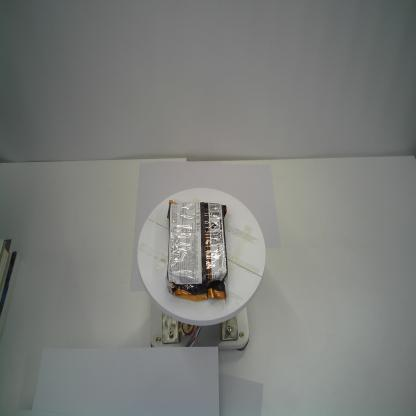Dessert: (165, 197, 229, 306)
